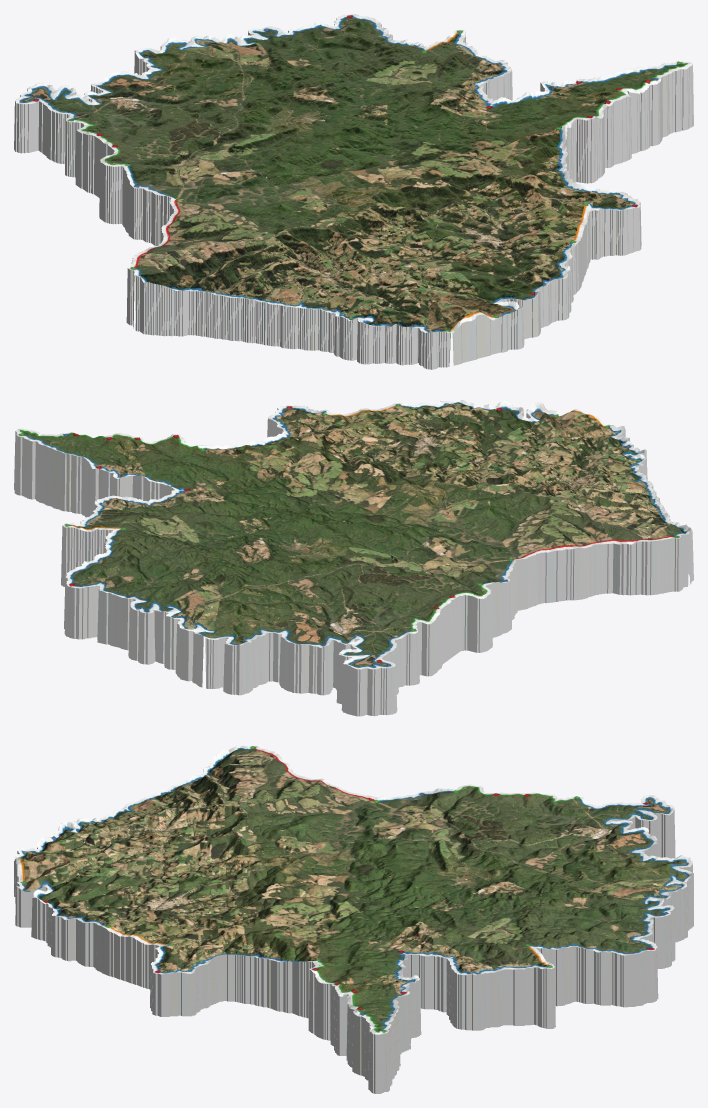
3 renders of one model, top to bottom at view 1: azimuth 30°, elevation 25°; view 2: azimuth 150°, elevation 25°; view 3: azimuth 270°, elevation 25°, orthographic. The views are drawn at different scales.
Bounding box in the file's own units: 1 × 0.0979 × 0.9691.
1 material, 1 textured.
